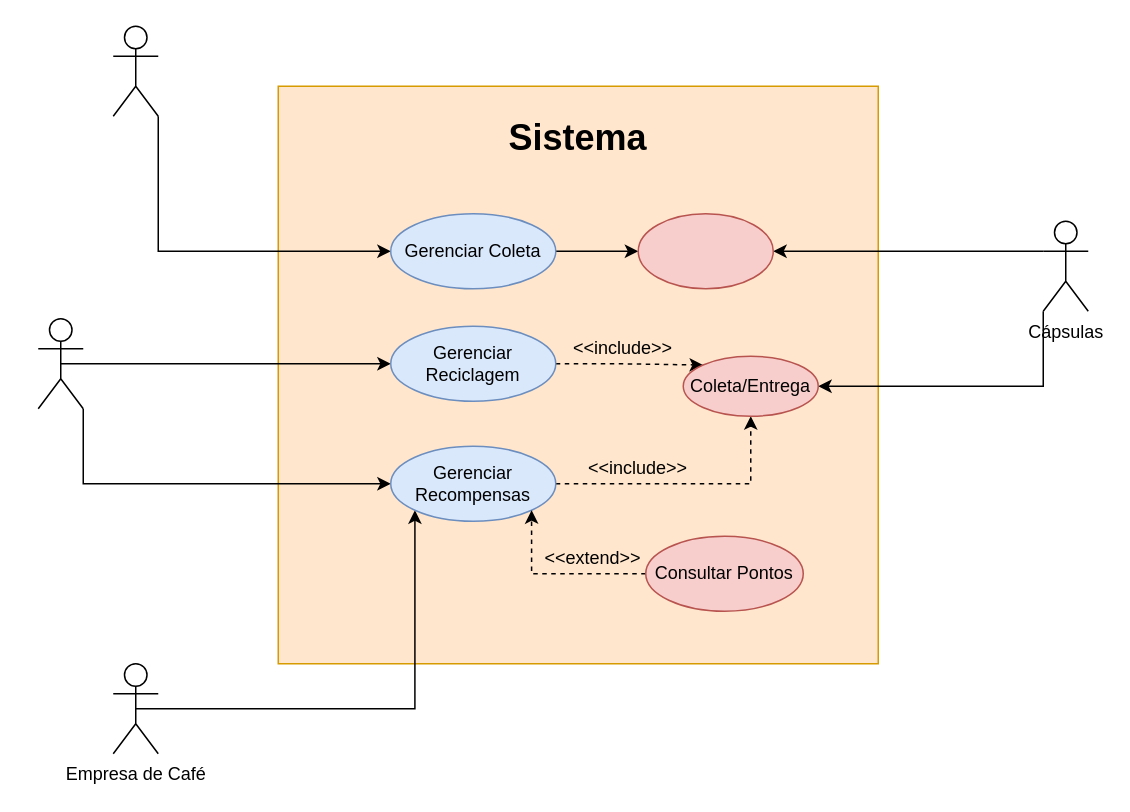
The diagram is 1130 pixels wide and 812 high, and some of its shapes have lost their labels. Each missing label, with the centre of its shape:
"Registro de Reciclagem" goes at (705,250).
"Terceirizada de Reciclagem" goes at (135,70).
"Usuário" goes at (60,363).
